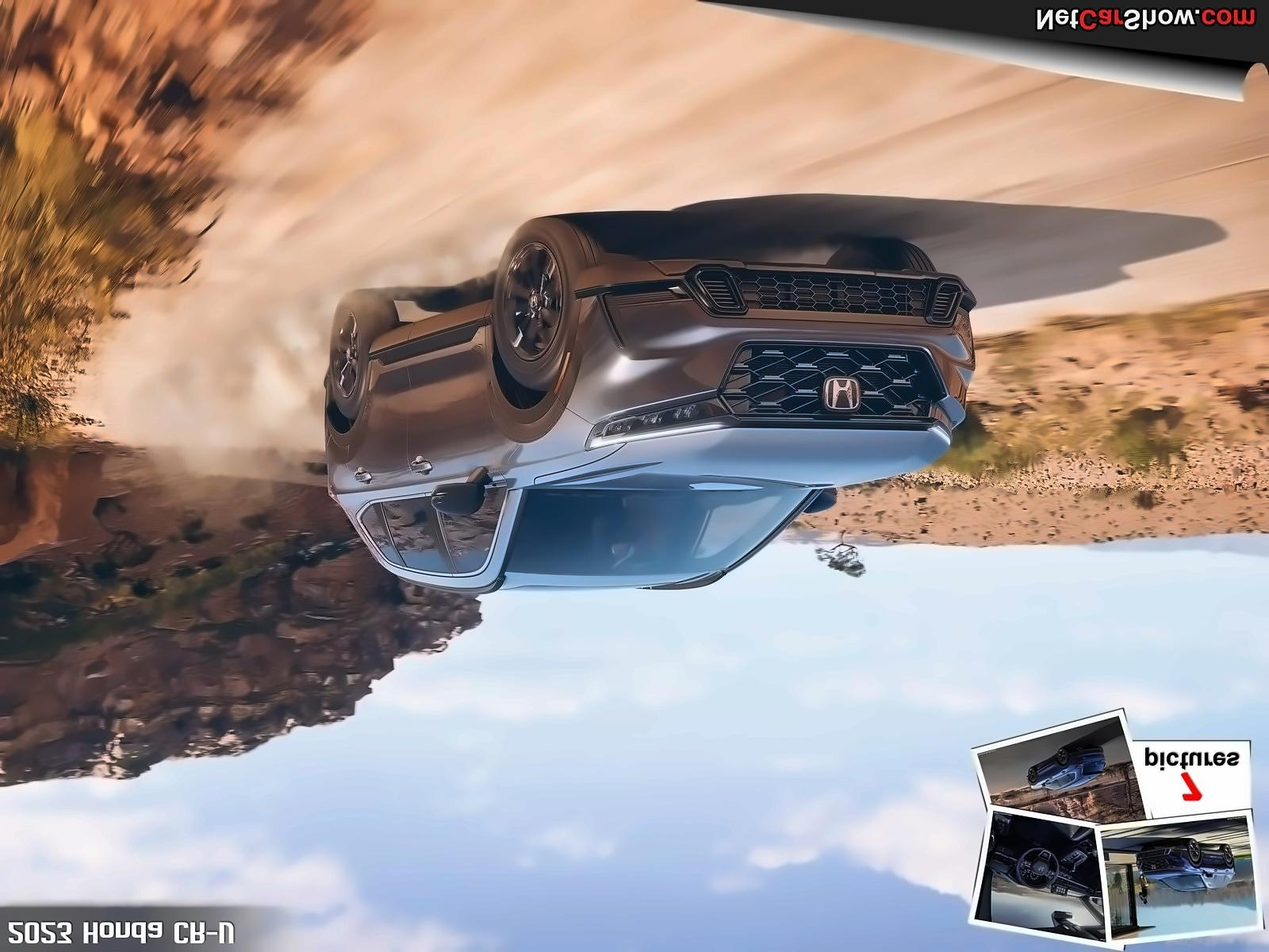Car hood: (532, 423, 956, 494)
Fender - -F-L-: (483, 307, 627, 495)
Fender - -R-L-: (332, 400, 363, 502)
Front bumper: (549, 252, 982, 418)
Headlight - -L-: (581, 384, 743, 456)
Headlight - -R-: (918, 391, 962, 456)
Passenger-s door - -F-L-: (405, 320, 495, 584)
Passenger-s door - -R-L-: (347, 344, 436, 585)
Rear bumper: (309, 363, 337, 447)
Rear light - -L-: (313, 472, 340, 516)
Side bumper - -L-: (362, 294, 502, 373)
Side mirror - -L-: (424, 461, 495, 524)
Side mirror - -R-: (800, 483, 844, 520)
